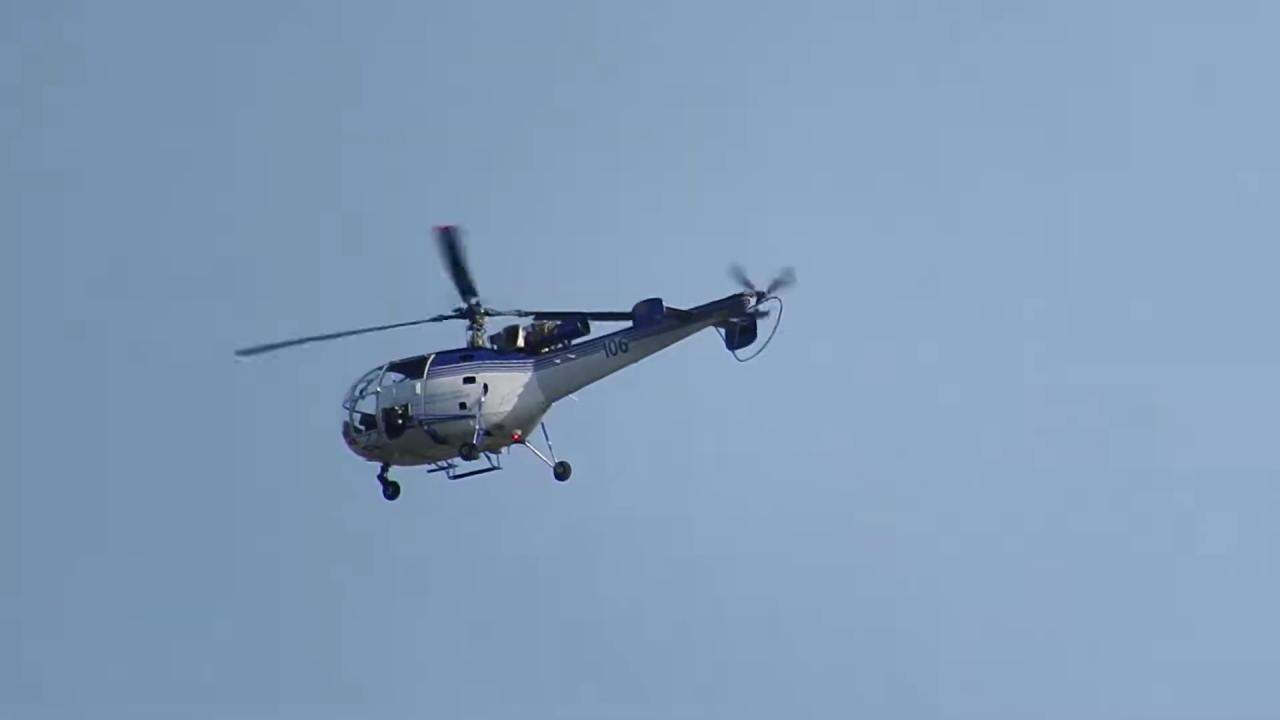Helicopter: (210, 206, 819, 529)
